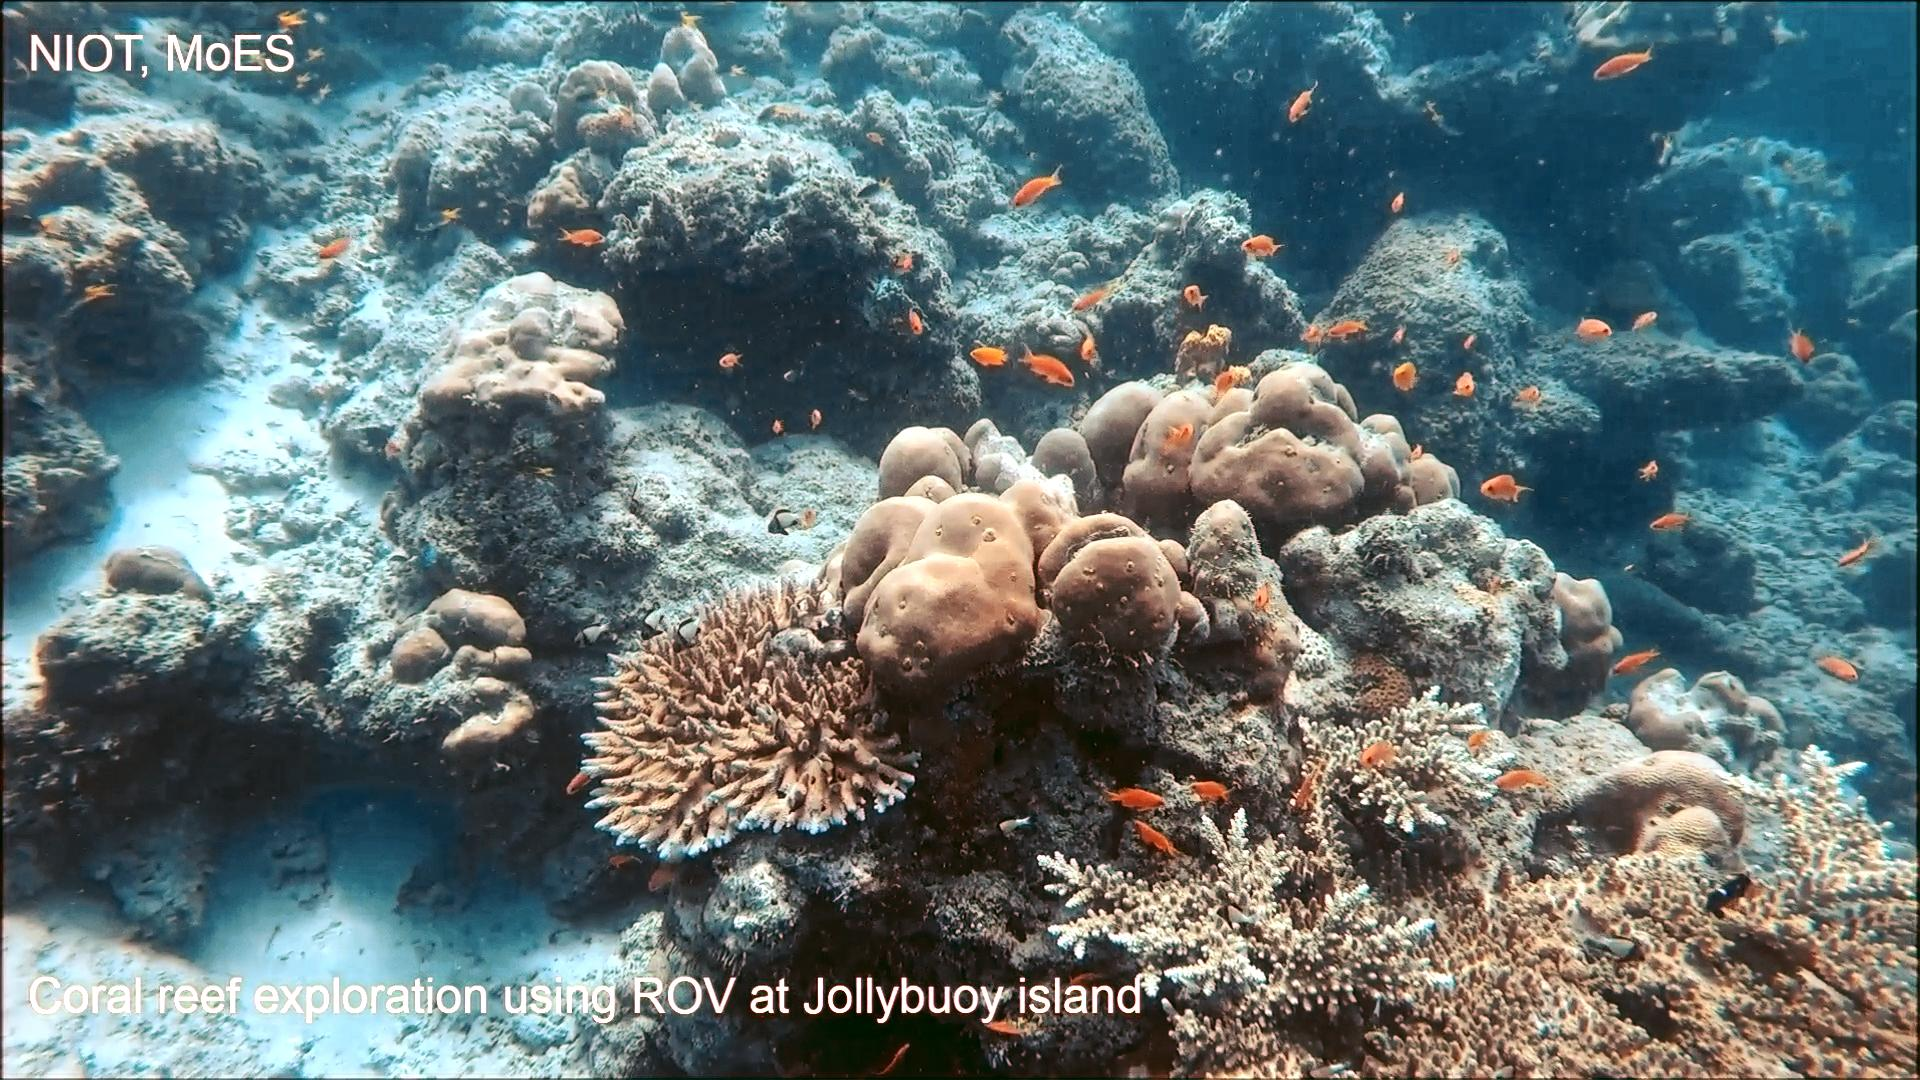Porites-Porites pukoensis: (816, 413, 1185, 712), (1064, 356, 1465, 535)
